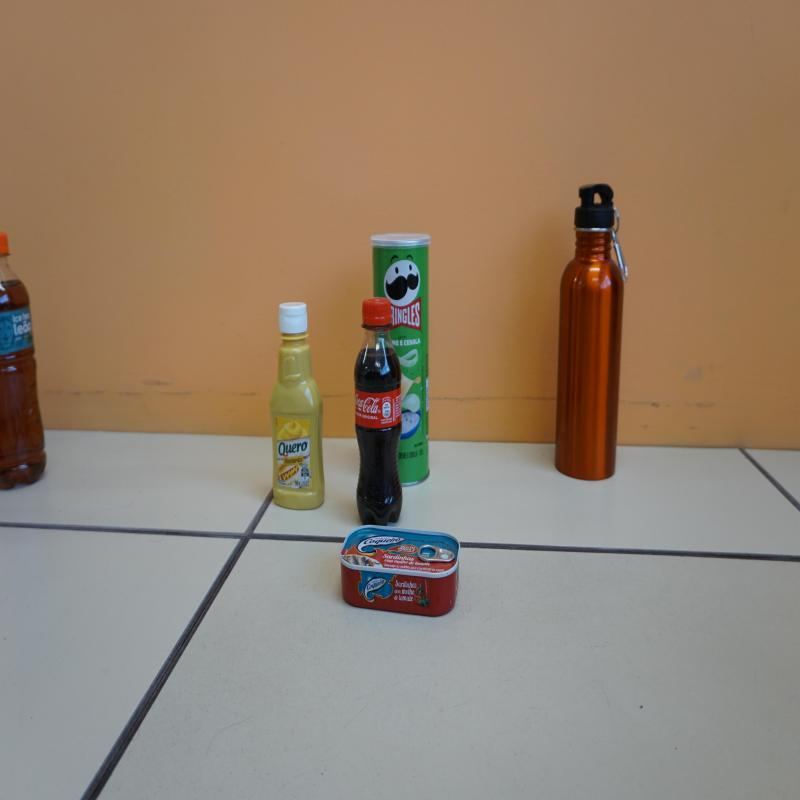Coke: (354, 298, 404, 528)
IceTea: (0, 233, 47, 493)
Mustard: (270, 303, 326, 512)
Pringles: (371, 235, 431, 487)
TunaCan: (339, 527, 460, 620)
